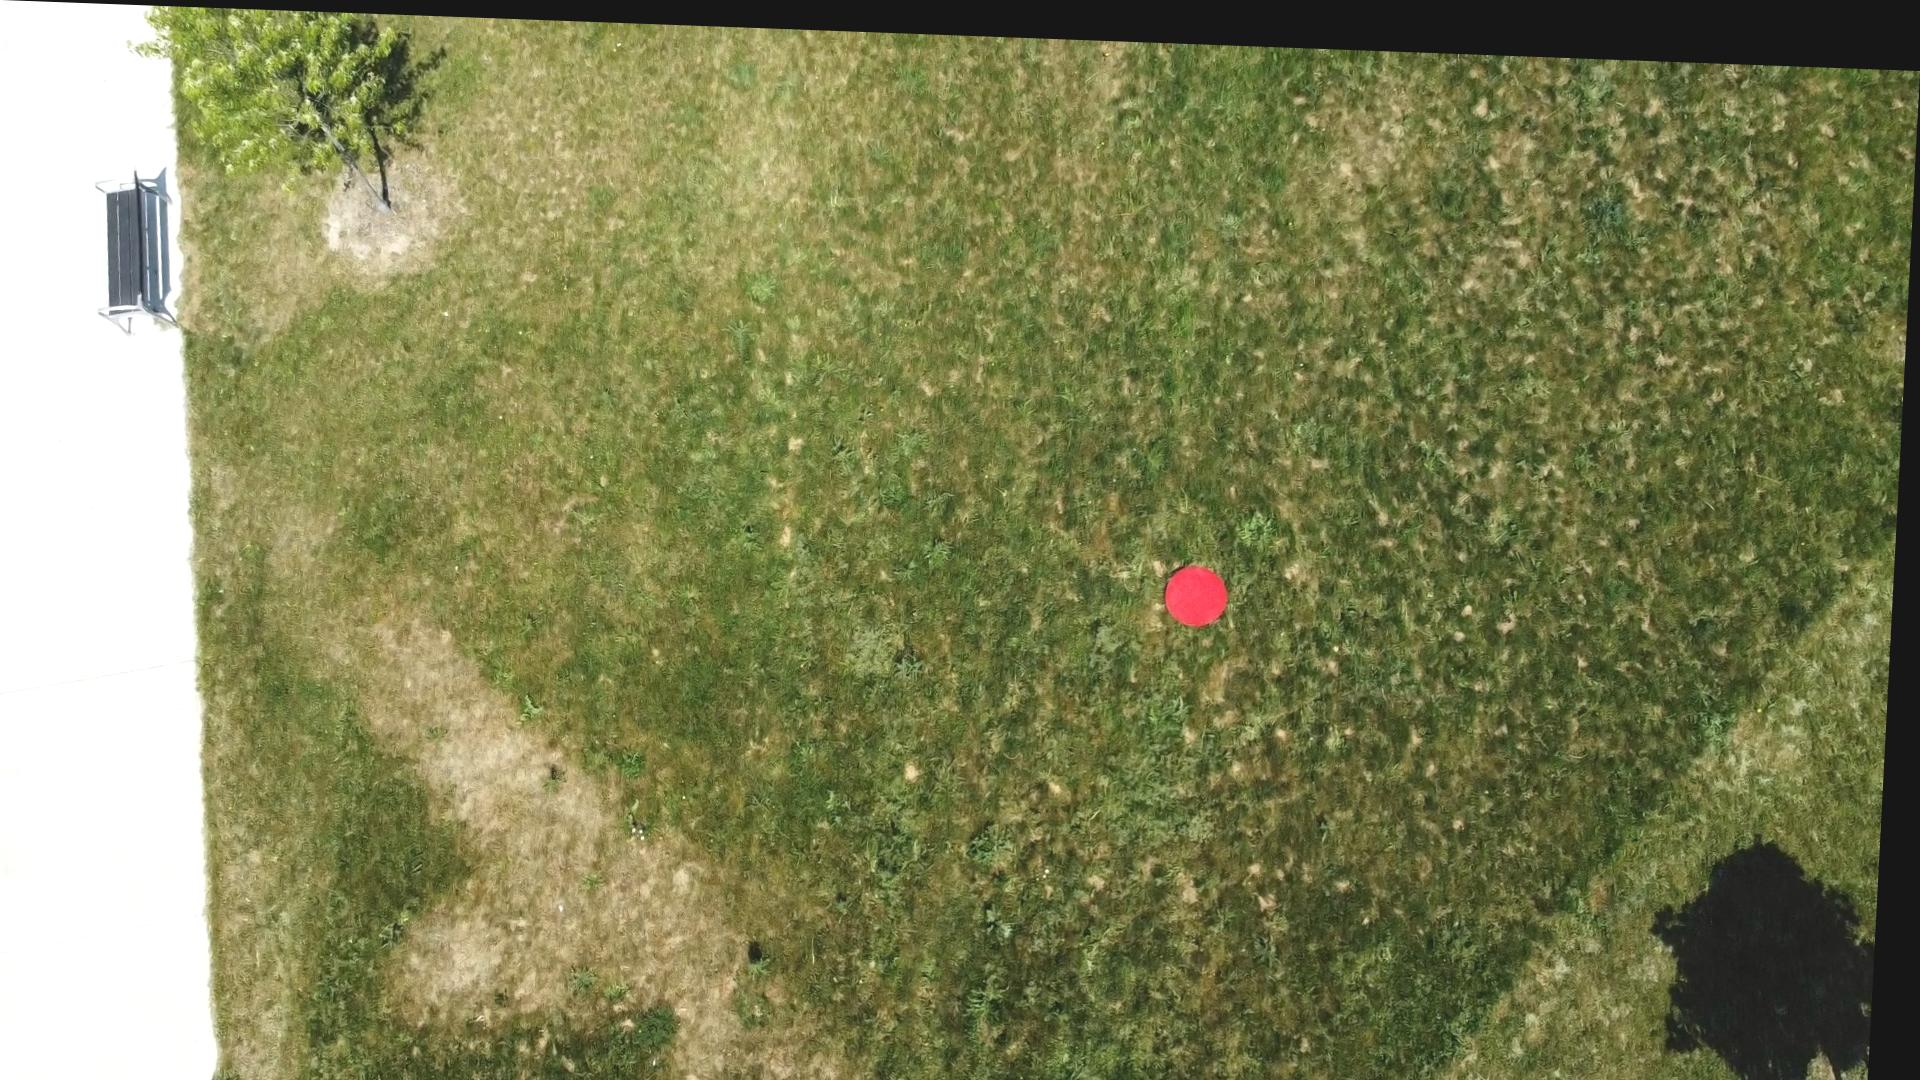Red: (1166, 554, 1238, 621)
